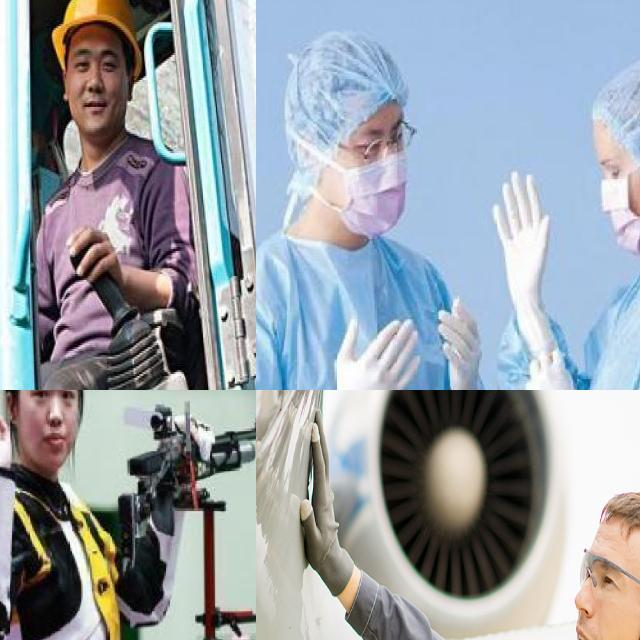No_Glasses: (69, 48, 125, 79), (26, 390, 75, 409)
face_mask: (316, 107, 422, 227), (579, 136, 640, 261)
face_nomask: (21, 390, 76, 465), (72, 51, 123, 121)
glasses: (576, 547, 640, 600), (350, 120, 420, 164)
hand_glove: (301, 418, 361, 598), (488, 165, 552, 308), (330, 313, 419, 390), (436, 295, 480, 390), (519, 341, 576, 390), (175, 413, 217, 461)
hand_noglove: (61, 224, 121, 285), (0, 390, 15, 468)
head_helmet: (47, 0, 143, 64)
head_nohelmet: (264, 53, 424, 129), (565, 65, 640, 147)
person: (256, 41, 502, 390), (301, 407, 640, 640), (22, 0, 192, 390), (479, 22, 640, 390), (0, 390, 198, 640)
